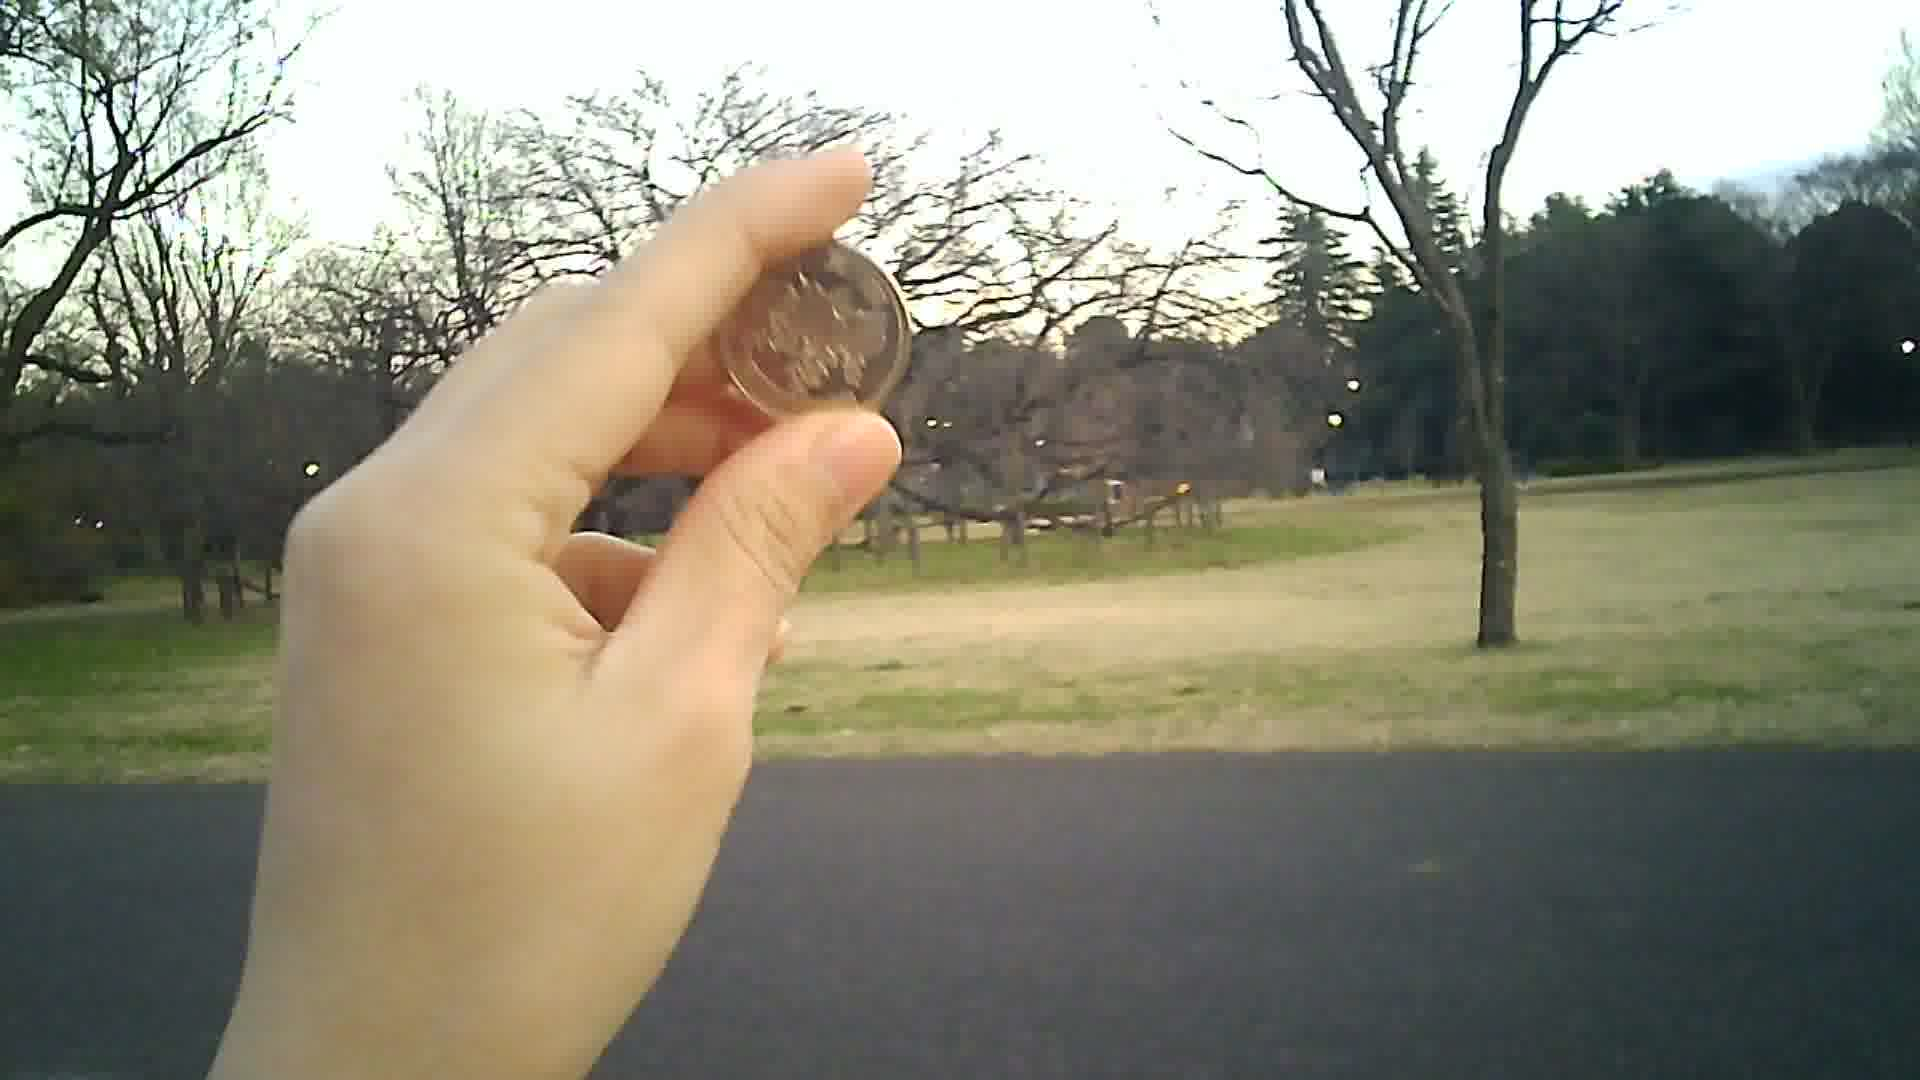500 Yen: (711, 229, 920, 430)
